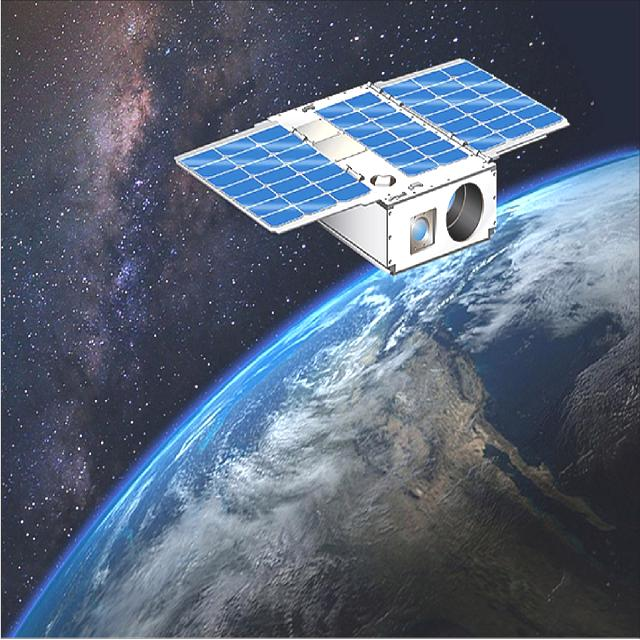medium_debris: (165, 32, 590, 315)
